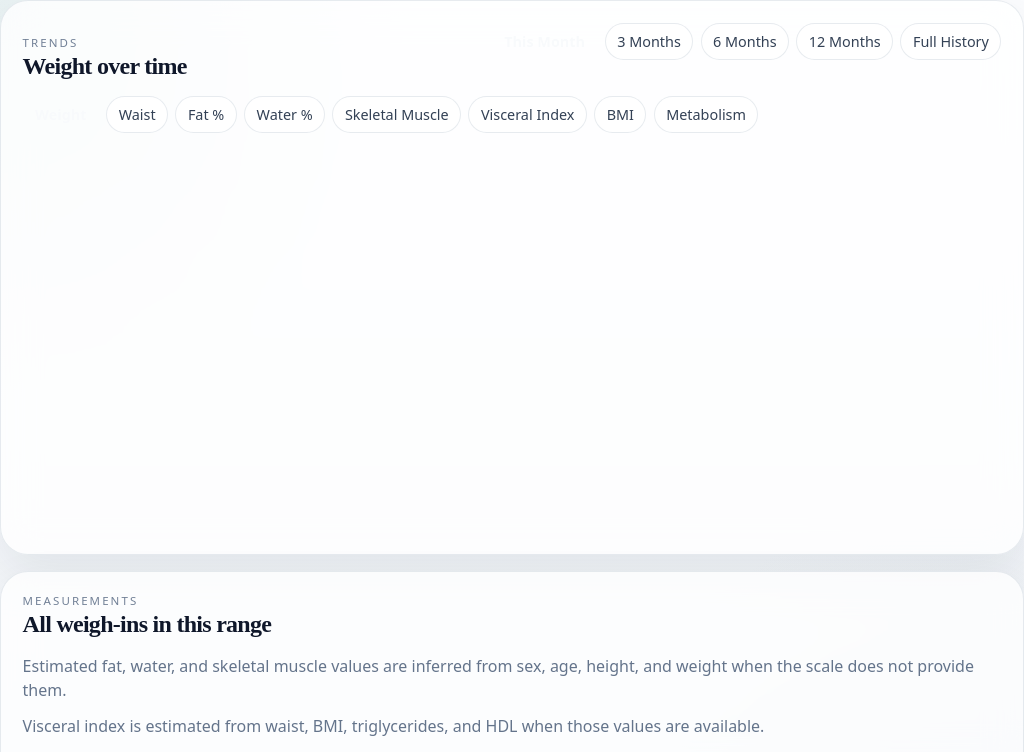
TrendsPanel › defaults to weight and switches headings when the metric changes
Check: the heading "Weight over time" is shown, box [23,53,187,80]
Check: the heading "All weigh-ins in this range" is shown, box [23,611,271,638]
Click the button "Fat %": (206, 114) [175,96,237,133]
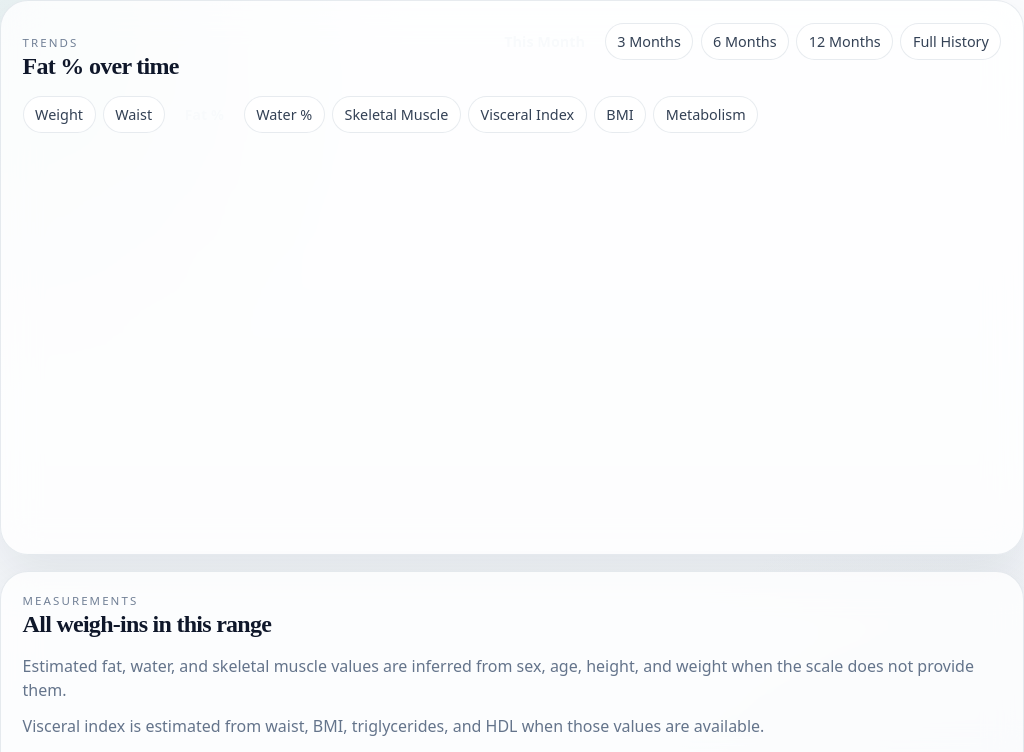
Check: the heading "Fat % over time" is shown, box [23,53,179,80]
